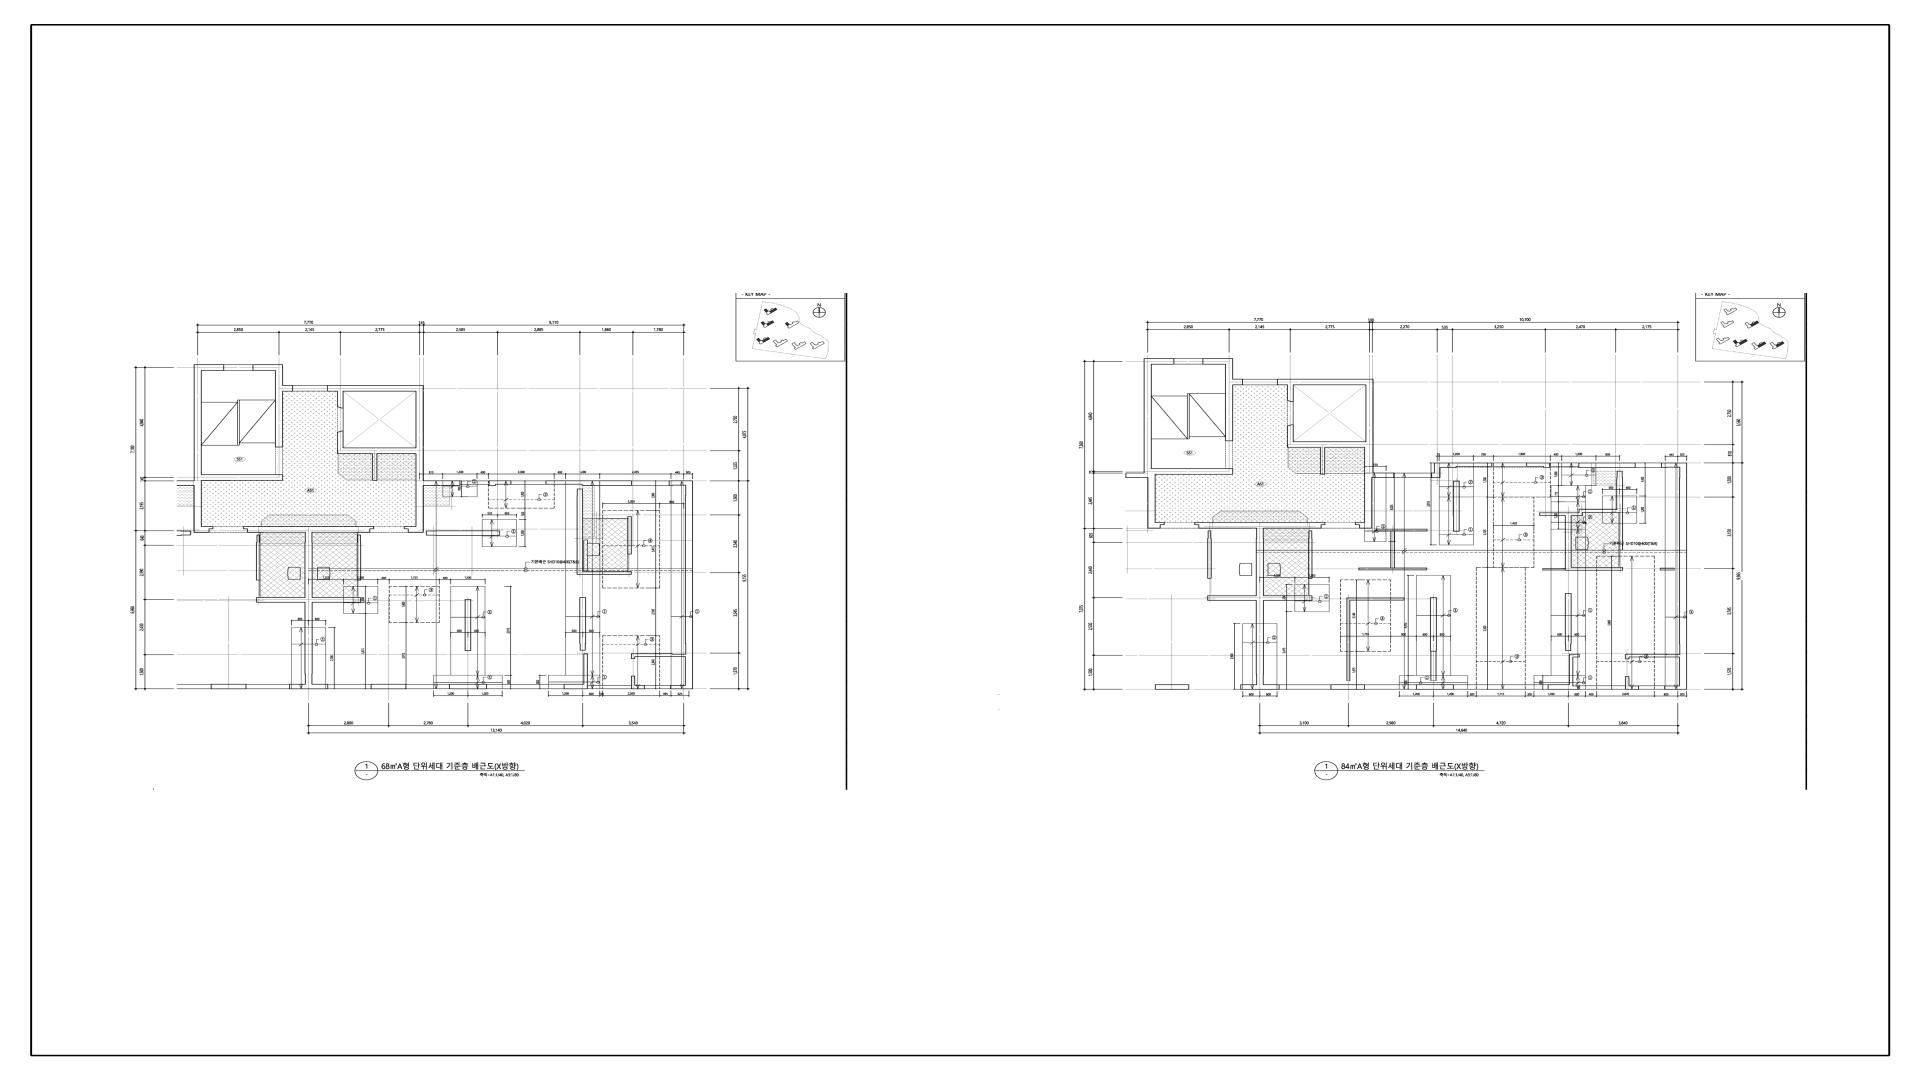wall: (1679, 468, 1687, 686), (685, 485, 693, 685), (1364, 385, 1374, 522), (194, 364, 202, 526), (1256, 528, 1264, 685), (305, 533, 313, 684), (416, 385, 424, 526), (243, 526, 374, 533), (1195, 522, 1325, 529), (1144, 468, 1233, 478), (1144, 364, 1152, 468), (327, 385, 416, 392), (275, 371, 283, 447), (1225, 365, 1233, 441), (1277, 379, 1374, 385), (577, 489, 583, 572), (202, 475, 283, 481), (337, 448, 416, 454), (1287, 442, 1365, 448), (546, 481, 632, 486), (1565, 593, 1572, 651), (1565, 516, 1572, 571), (1430, 597, 1437, 651), (426, 531, 500, 536), (1453, 481, 1460, 532), (1148, 478, 1156, 522), (580, 597, 586, 651), (1346, 601, 1350, 681), (465, 599, 471, 651), (1434, 463, 1492, 468), (313, 597, 361, 603), (1579, 463, 1636, 468), (1308, 531, 1313, 579), (1264, 596, 1312, 601), (1617, 471, 1623, 509), (577, 571, 632, 575), (253, 364, 283, 371), (1144, 358, 1174, 365), (1203, 358, 1233, 365), (1572, 567, 1623, 571), (449, 684, 487, 689), (1416, 685, 1454, 690), (357, 535, 361, 581), (371, 684, 407, 689), (424, 481, 460, 486), (1390, 532, 1395, 568), (1431, 652, 1437, 681), (1347, 598, 1404, 601), (1331, 685, 1365, 690), (372, 454, 378, 481), (1548, 685, 1580, 690), (1583, 509, 1623, 513), (1376, 529, 1428, 532), (202, 364, 224, 371), (635, 654, 685, 657), (1630, 654, 1680, 657), (628, 517, 632, 554), (1619, 513, 1623, 550), (404, 526, 424, 533), (1358, 568, 1427, 570), (1320, 448, 1325, 475), (194, 526, 213, 533), (1661, 463, 1687, 468), (564, 684, 588, 689), (669, 481, 693, 486), (584, 654, 588, 684), (1256, 685, 1280, 690), (1526, 463, 1550, 468), (1539, 513, 1579, 516), (337, 431, 344, 448), (1148, 522, 1165, 529), (1287, 425, 1294, 442), (1287, 385, 1294, 402), (305, 684, 328, 689), (337, 392, 344, 408), (1569, 657, 1573, 685), (489, 481, 511, 486), (1373, 473, 1394, 478), (1355, 522, 1372, 528), (670, 685, 693, 689), (1664, 686, 1687, 690), (283, 385, 293, 392), (1542, 568, 1565, 571), (1233, 379, 1243, 385), (631, 685, 645, 689), (1625, 686, 1639, 690), (1431, 473, 1441, 478), (1625, 676, 1630, 686), (1660, 568, 1675, 571), (631, 676, 635, 685), (1434, 468, 1441, 473), (1569, 654, 1580, 657), (1579, 509, 1583, 516), (1625, 654, 1630, 659), (631, 654, 635, 659)
